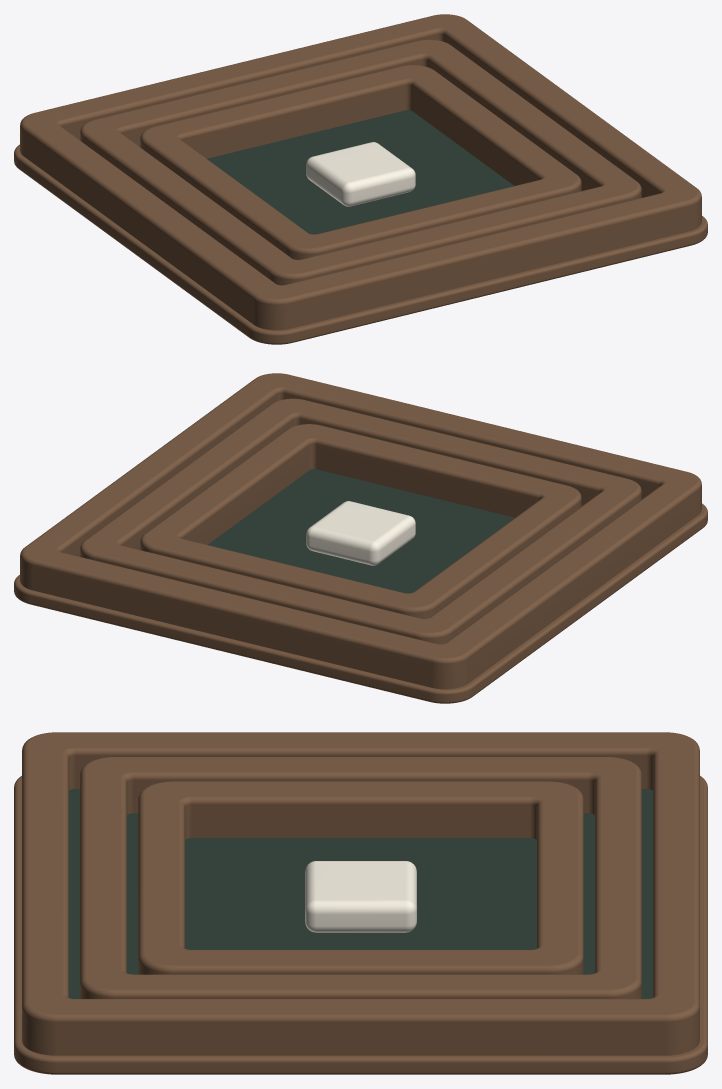
Rendered from puzzle.glb.
3 views of the same model, one above another, from view 1: azimuth 30°, elevation 25°; view 2: azimuth 150°, elevation 25°; view 3: azimuth 270°, elevation 25° (orthographic). The views are drawn at different scales.
Visible parts, largest first — view 1: frame_5_rim, frame_3_rim, frame_4_rim, frame_4_floor, frame_5_base, frame_3_floor, frame_5_floor, tile_1; view 2: frame_5_rim, frame_3_rim, frame_4_rim, frame_5_base, frame_4_floor, frame_3_floor, frame_5_floor, tile_1; view 3: frame_5_rim, frame_4_rim, frame_3_rim, frame_4_floor, frame_5_base, frame_5_floor, frame_3_floor, tile_1, tile_14, tile_9.
Boxes of the visible parts, <box> form: frame_5_rim: <box>20,14,701,330</box>; frame_3_rim: <box>140,65,581,259</box>; frame_4_rim: <box>80,39,641,285</box>; frame_4_floor: <box>207,110,498,233</box>; frame_5_base: <box>14,144,707,344</box>; frame_3_floor: <box>260,110,513,234</box>; frame_5_floor: <box>220,110,513,230</box>; tile_1: <box>306,142,415,206</box>; frame_5_rim: <box>20,373,701,689</box>; frame_3_rim: <box>140,424,581,618</box>; frame_4_rim: <box>80,398,641,644</box>; frame_5_base: <box>14,503,707,703</box>; frame_4_floor: <box>226,469,514,587</box>; frame_3_floor: <box>208,469,456,593</box>; frame_5_floor: <box>212,469,486,555</box>; tile_1: <box>306,501,415,565</box>; frame_5_rim: <box>22,732,699,1055</box>; frame_4_rim: <box>80,757,641,998</box>; frame_3_rim: <box>138,781,583,974</box>; frame_4_floor: <box>126,813,595,974</box>; frame_5_base: <box>14,776,707,1074</box>; frame_5_floor: <box>68,789,653,998</box>; frame_3_floor: <box>185,838,536,949</box>; tile_1: <box>305,861,416,932</box>; tile_14: <box>316,862,405,899</box>; tile_9: <box>316,862,405,899</box>.
Size of the model in its own units: 5.97 by 0.53 by 5.97.
